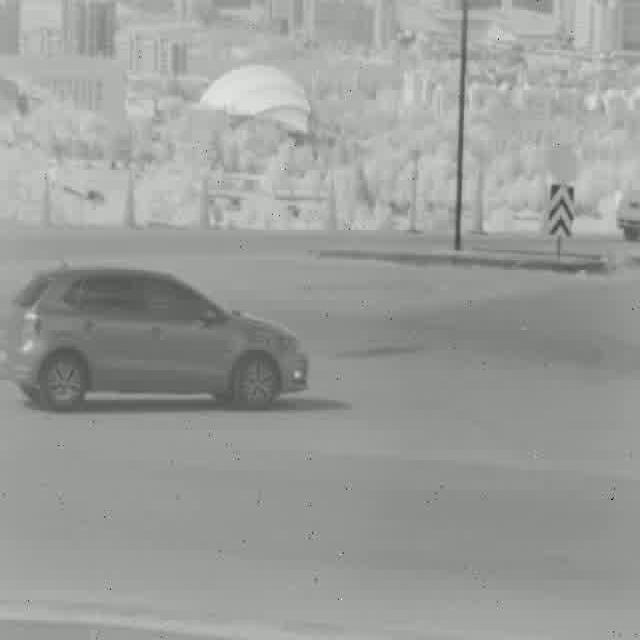Car: (5, 265, 306, 413), (615, 189, 640, 242)
